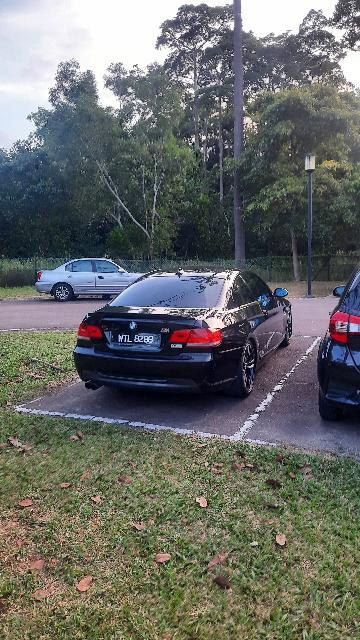License_Plate: (111, 329, 167, 353)
car: (75, 265, 301, 413)
